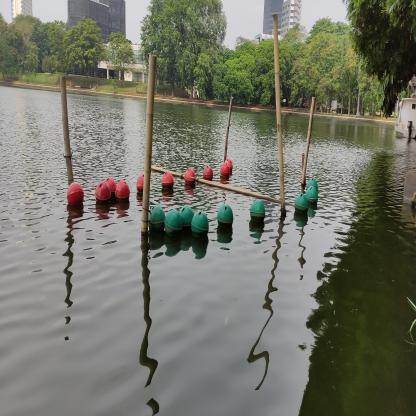green_buoy: (191, 210, 209, 240), (165, 208, 182, 237), (148, 206, 166, 233), (216, 203, 234, 230), (249, 199, 266, 224), (179, 206, 194, 232), (294, 193, 309, 216), (306, 186, 318, 204), (307, 178, 318, 192)
red_buoy: (66, 182, 85, 208), (95, 180, 111, 205), (115, 179, 130, 203), (104, 177, 117, 200), (161, 171, 174, 191), (184, 168, 196, 186), (202, 165, 214, 181), (136, 174, 145, 194), (224, 157, 233, 174), (220, 163, 230, 178)
